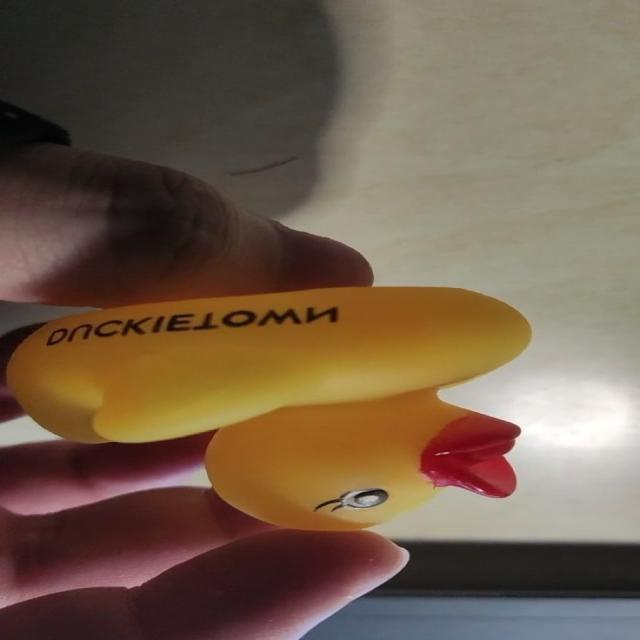rubber-duck: (5, 286, 529, 528)
